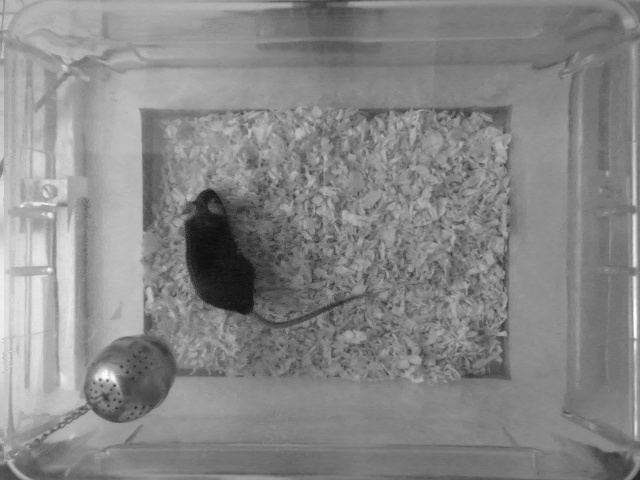mice: (181, 187, 367, 327)
